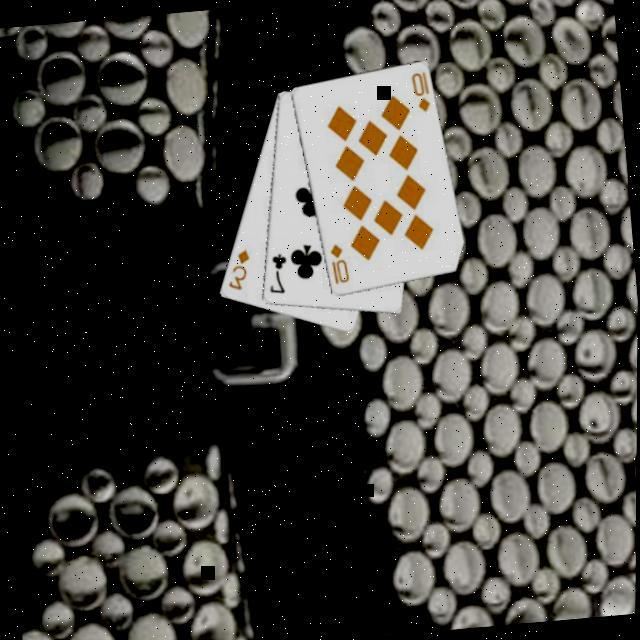10D: (409, 67, 435, 116), (328, 240, 354, 288)
3D: (223, 247, 257, 294)
7C: (266, 250, 294, 298)
